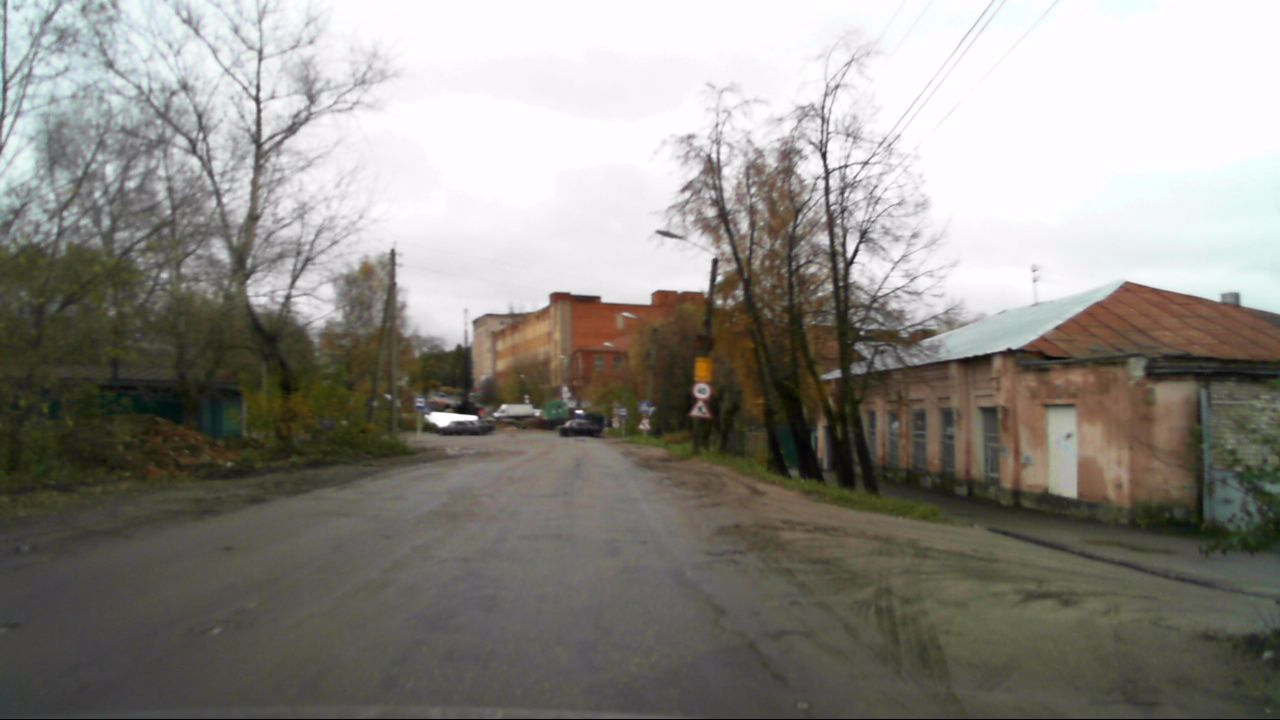speed_warning_40: (692, 382, 712, 401)
